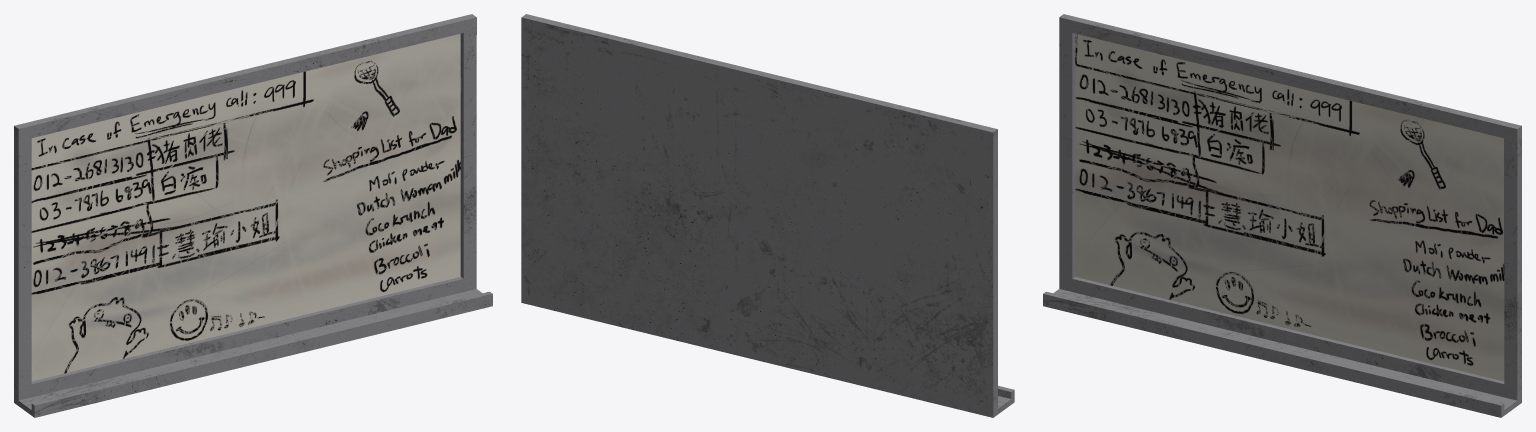
File: whiteboard.FBX
3 renders of one model, left to right at view 1: azimuth 30°, elevation 25°; view 2: azimuth 150°, elevation 25°; view 3: azimuth 330°, elevation 25°, orthographic. The views are drawn at different scales.
Parts seen in each view (by area): view 1: whiteboard_lp; view 2: whiteboard_lp; view 3: whiteboard_lp.
Part boxes in pixels (x1,y1,x2,y2): whiteboard_lp: [14, 14, 492, 417]; whiteboard_lp: [521, 14, 1014, 417]; whiteboard_lp: [1043, 14, 1521, 417].
Bounding box in the file's own units: 149 × 86.14 × 11.6.
1 material, 1 textured.
